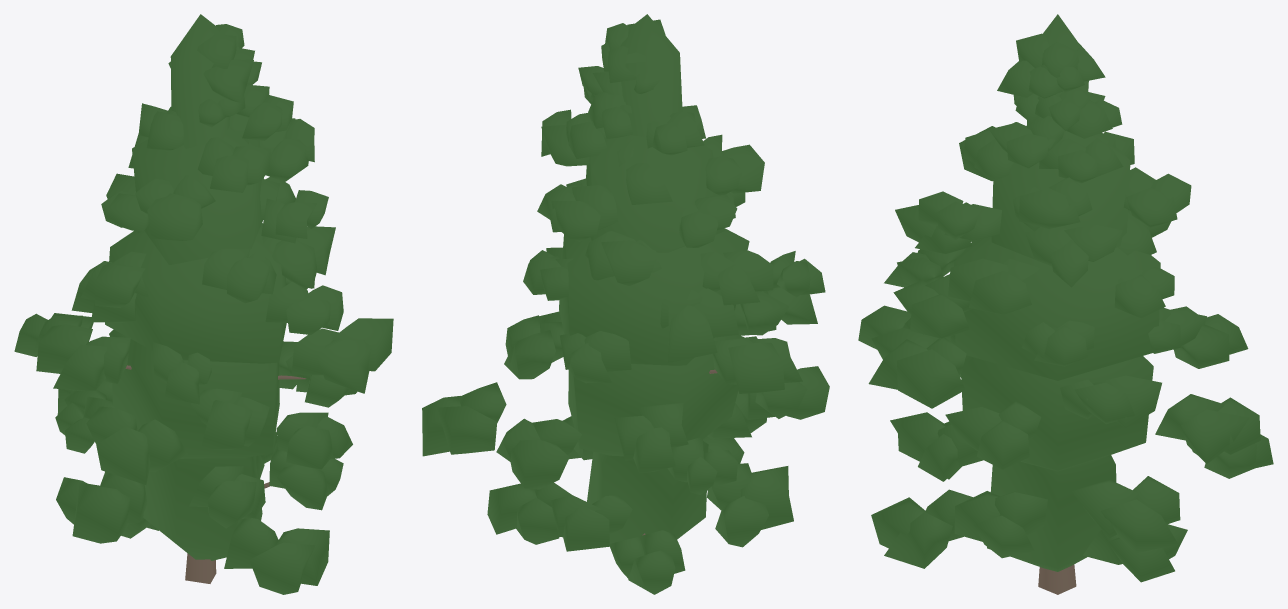
File: Blender_AfghanPine_2_Far.glb
3 views of the same model, side by side, from view 1: azimuth 30°, elevation 25°; view 2: azimuth 150°, elevation 25°; view 3: azimuth 270°, elevation 25° (orthographic).
Parts seen in each view (by area): view 1: Blender_AfghanPine_2_Far; view 2: Blender_AfghanPine_2_Far; view 3: Blender_AfghanPine_2_Far.
Part boxes in pixels (x1,y1,x2,y2): Blender_AfghanPine_2_Far: (14,14,393,594); Blender_AfghanPine_2_Far: (422,14,829,594); Blender_AfghanPine_2_Far: (858,14,1273,594).
Size of the model in its own units: 7.31 by 11.62 by 7.63.
